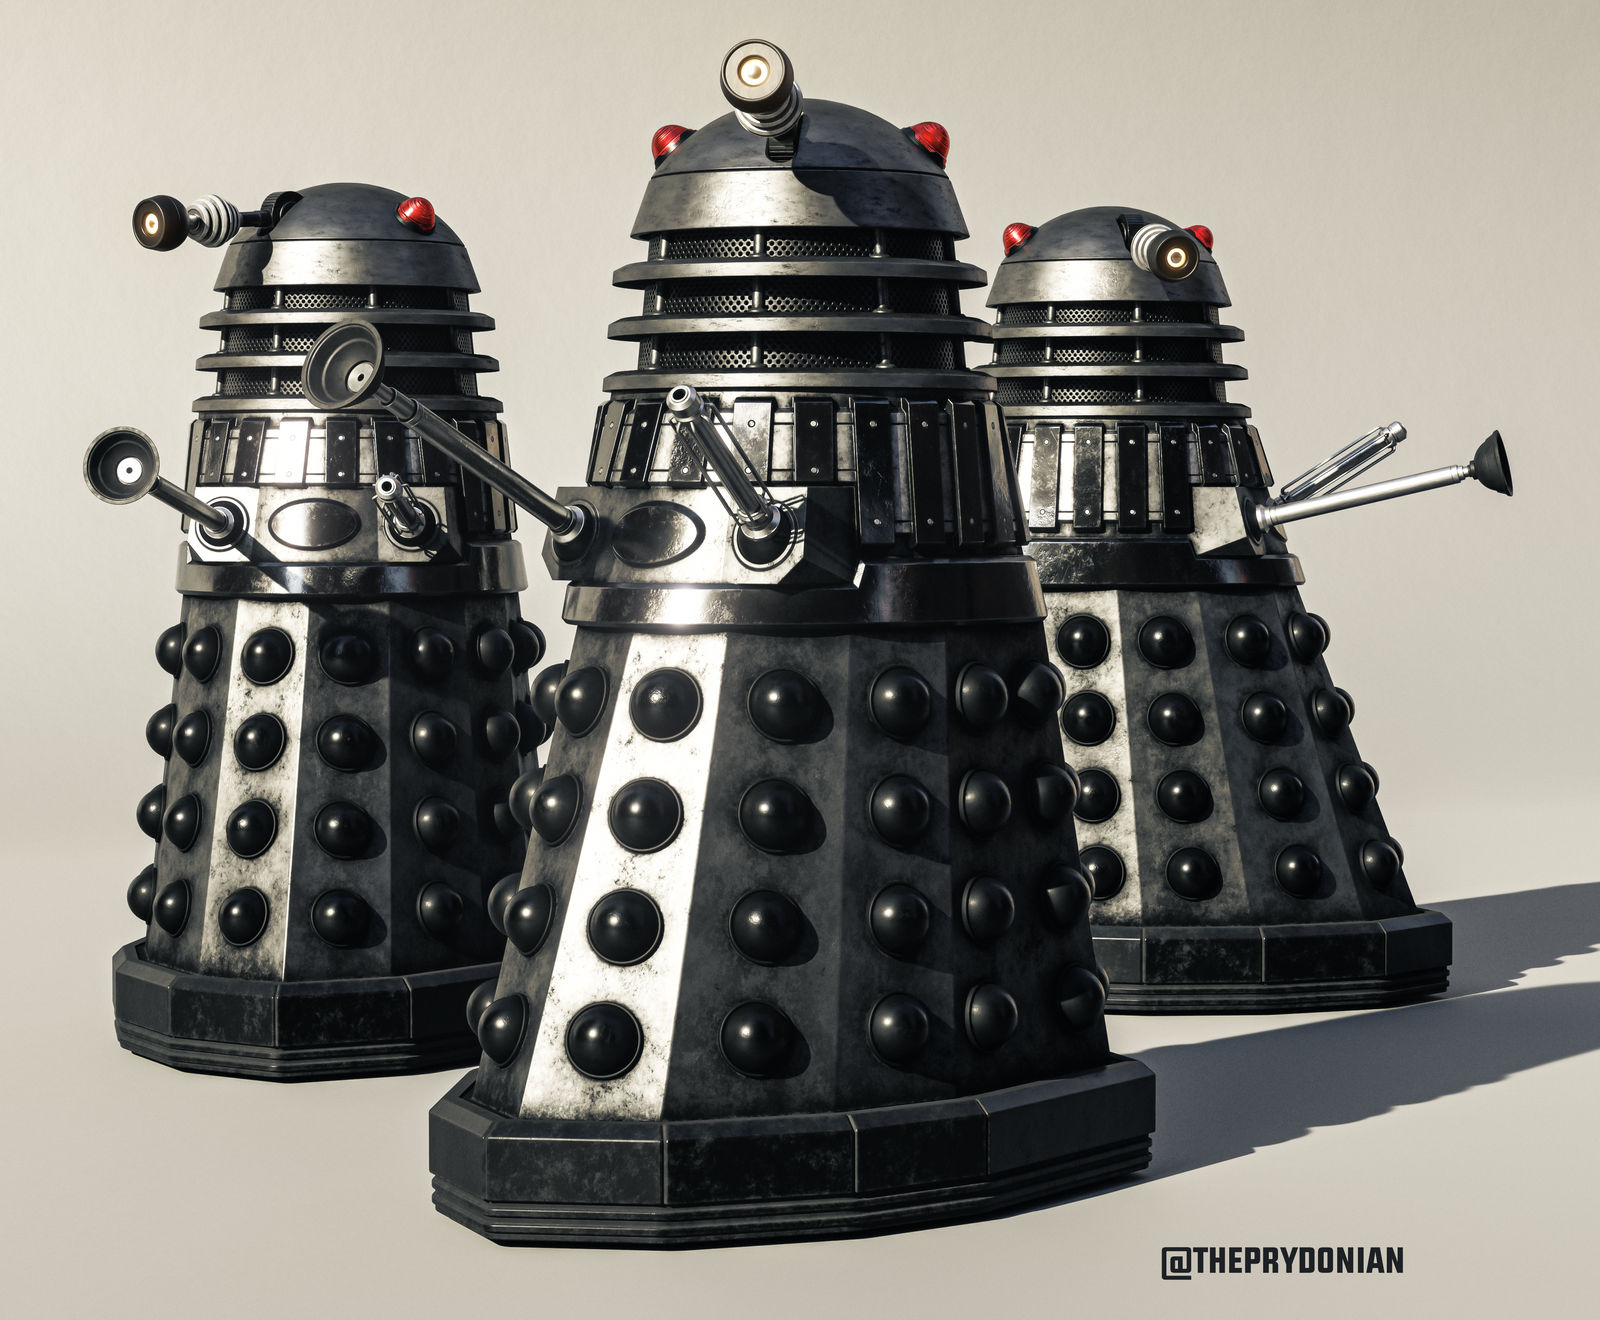dalek: (468, 48, 1127, 1320), (989, 102, 1600, 980), (68, 77, 497, 904)
